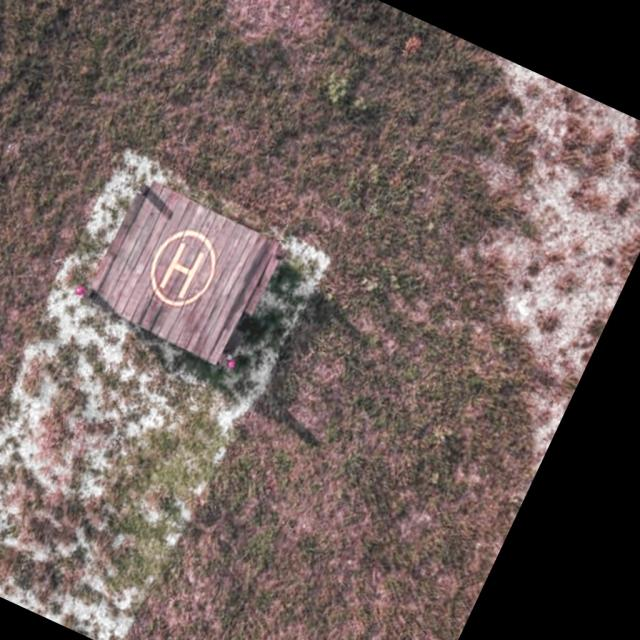helipad: (147, 226, 219, 308)
